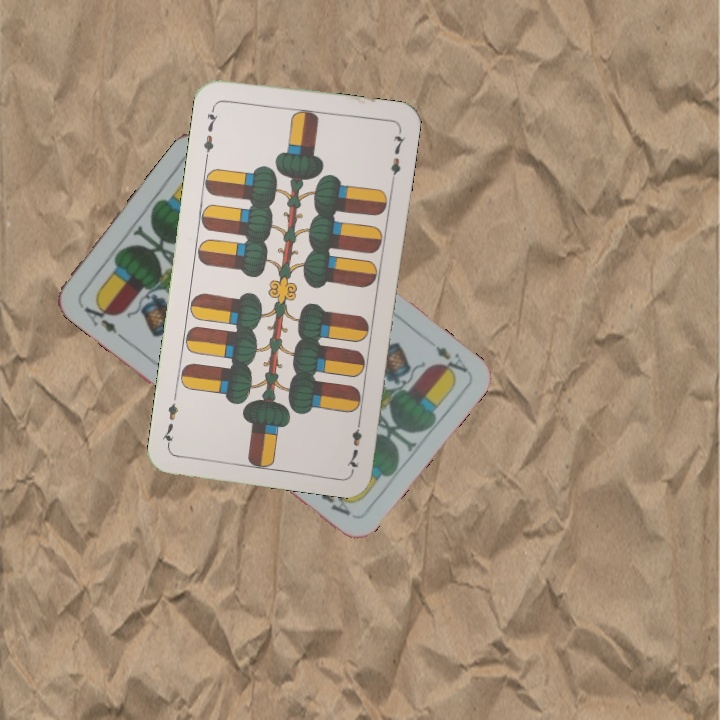E7: (342, 413, 365, 473), (199, 101, 221, 160)
EA: (79, 296, 126, 341), (431, 341, 471, 380)
